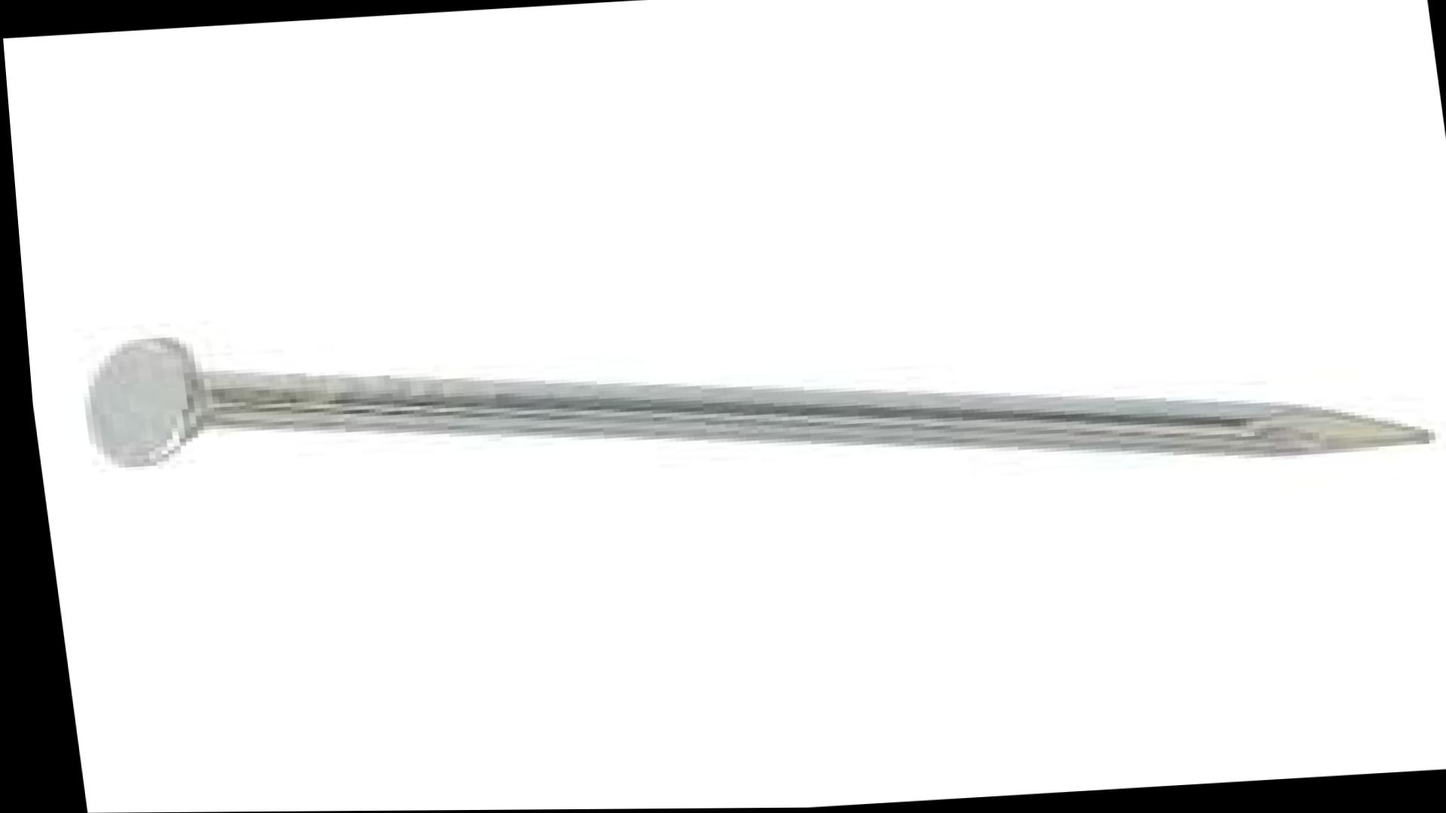nail: (69, 248, 1446, 542)
